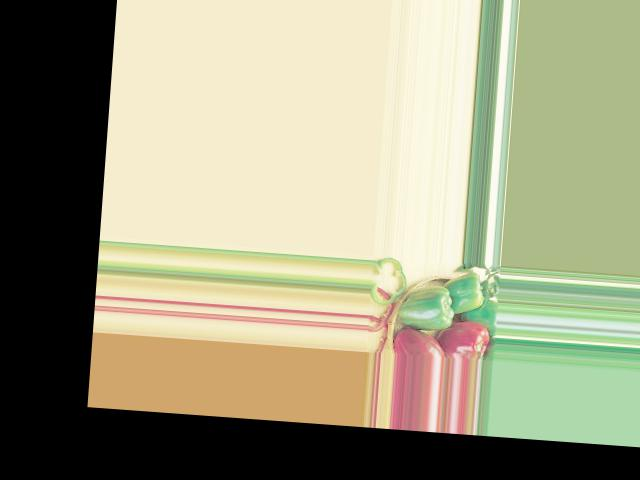bell_pepper: (392, 329, 447, 357)
